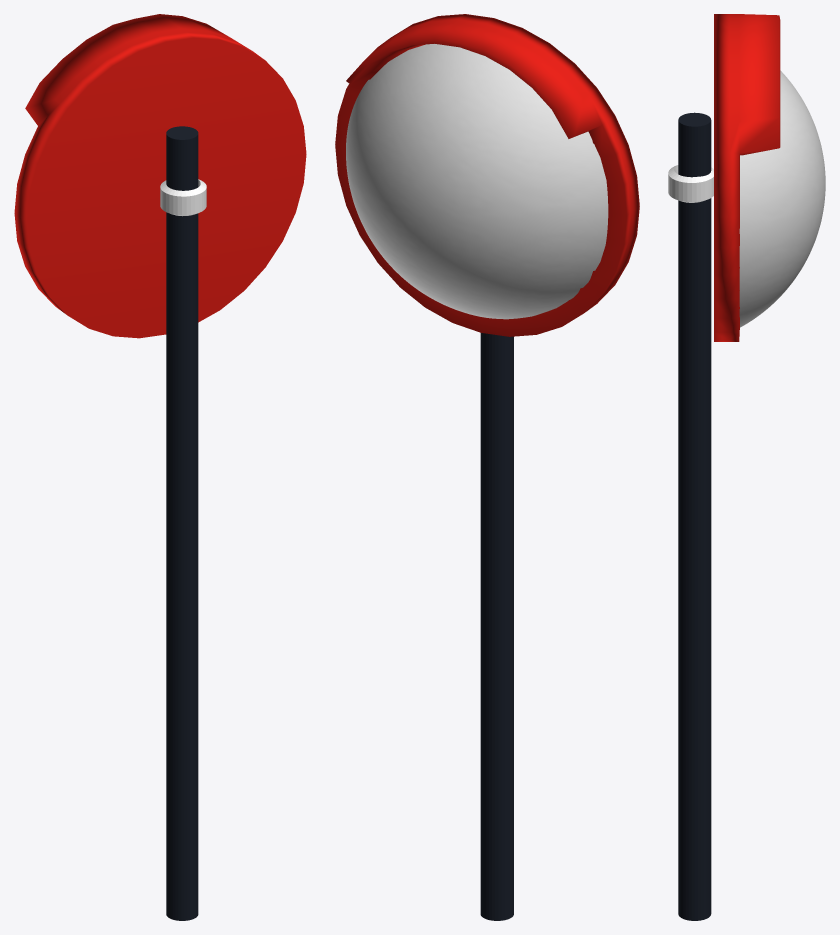
The model's file is curve_mirror.glb.
The picture shows the model from 3 angles, left to right: view 1: azimuth 30°, elevation 25°; view 2: azimuth 150°, elevation 25°; view 3: azimuth 270°, elevation 25°; orthographic projection. The views are drawn at different scales.
Visible parts, largest first — view 1: Cover_1, Pole_0, Clamp_3; view 2: Mirror_2, Cover_1, Pole_0; view 3: Pole_0, Cover_1, Mirror_2, Clamp_3.
Part boxes in pixels (x1,y1,x2,y2): Cover_1: [14, 14, 306, 338]; Pole_0: [166, 126, 198, 920]; Clamp_3: [160, 179, 206, 216]; Mirror_2: [346, 44, 608, 319]; Cover_1: [335, 14, 639, 336]; Pole_0: [480, 333, 513, 920]; Pole_0: [678, 112, 711, 920]; Cover_1: [714, 14, 780, 341]; Mirror_2: [739, 70, 825, 327]; Clamp_3: [668, 165, 713, 202].
Bounding box in the file's own units: 2 × 5.92 × 0.9589.
